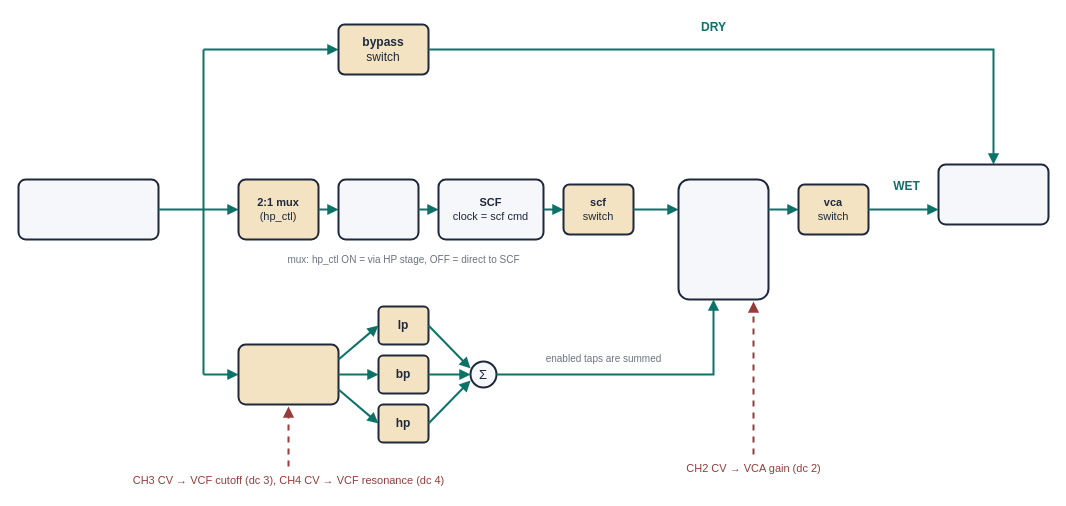
The diagram is 1066 pixels wide and 506 high, and some of its shapes have lost their labels. Each missing label, with the centre of its shape:
"CS4304 CH1 audio out" goes at pixel 88 209.
"HP stage (clocked)" goes at pixel 378 209.
"OUTPUT" goes at pixel 993 194.
"VCA" goes at pixel 723 239.
"VCF (vcf switch)" goes at pixel 288 374.
